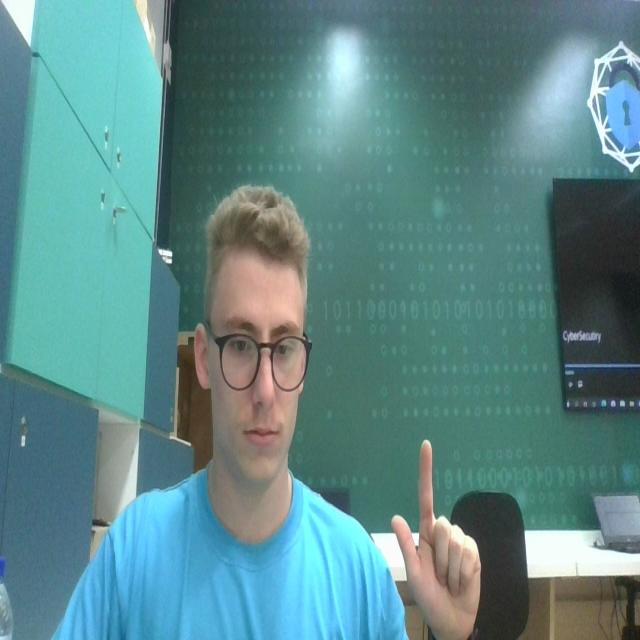G: (384, 438, 486, 640)
